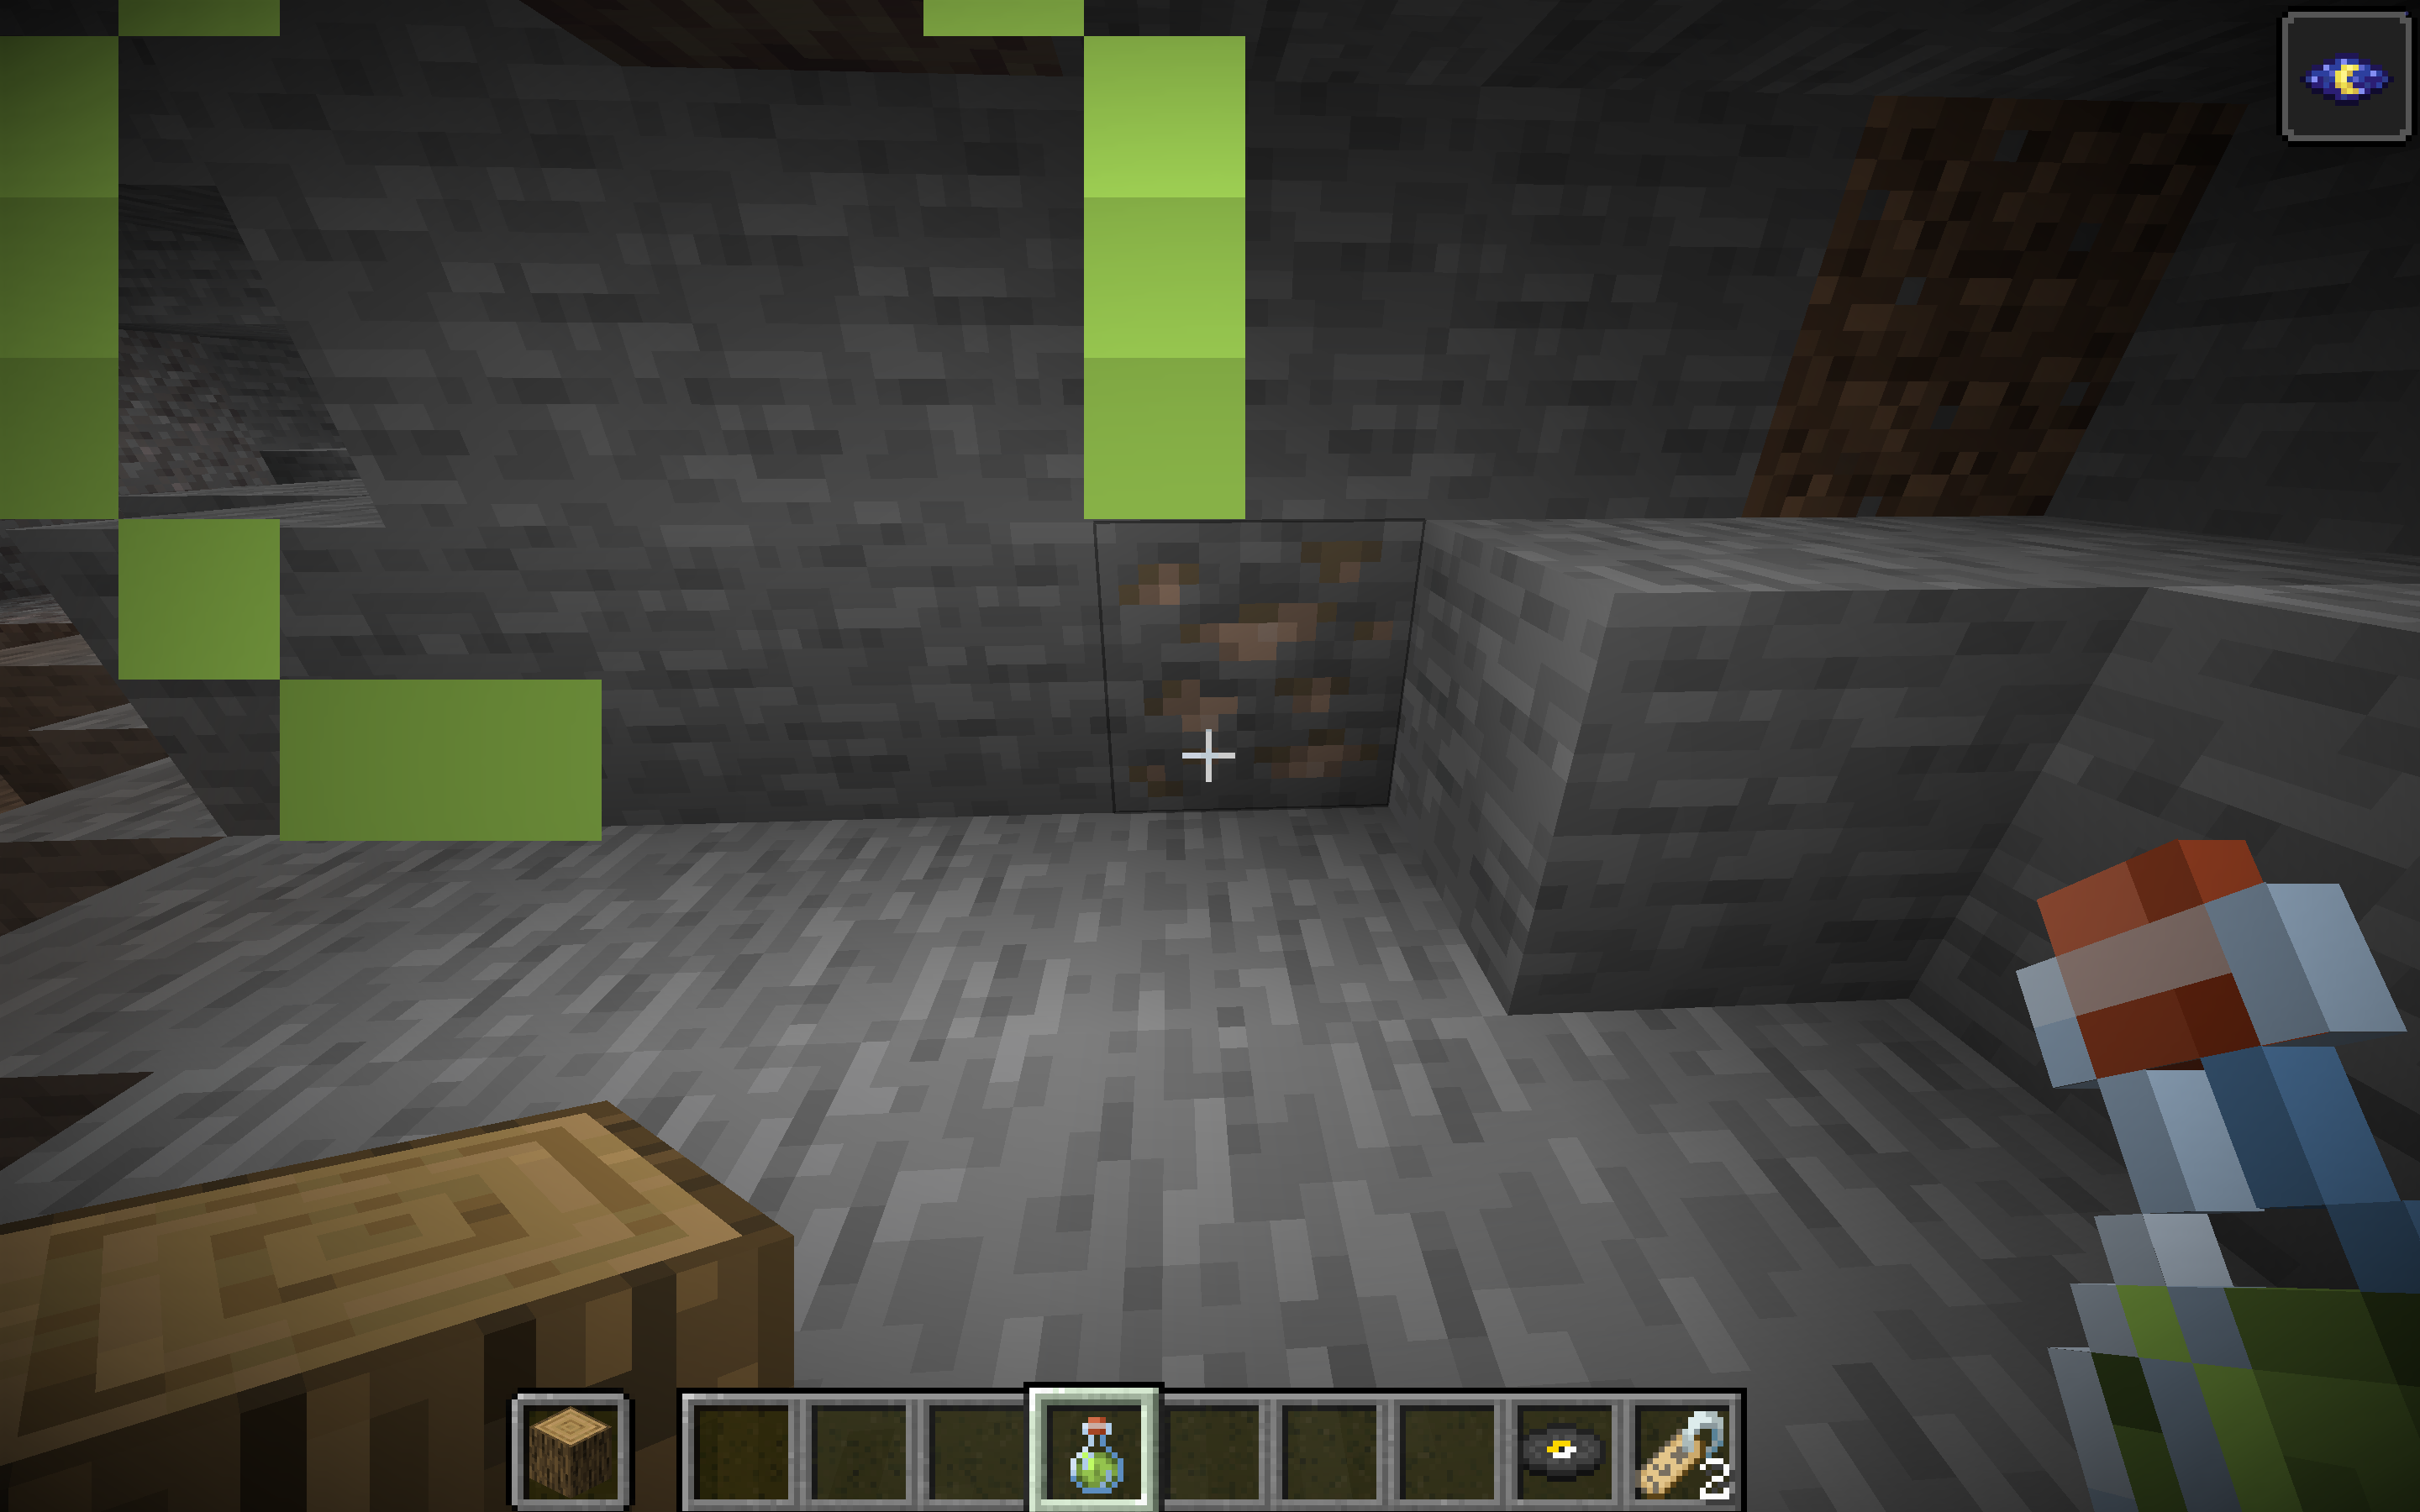iron: (1096, 523, 2018, 1118)
